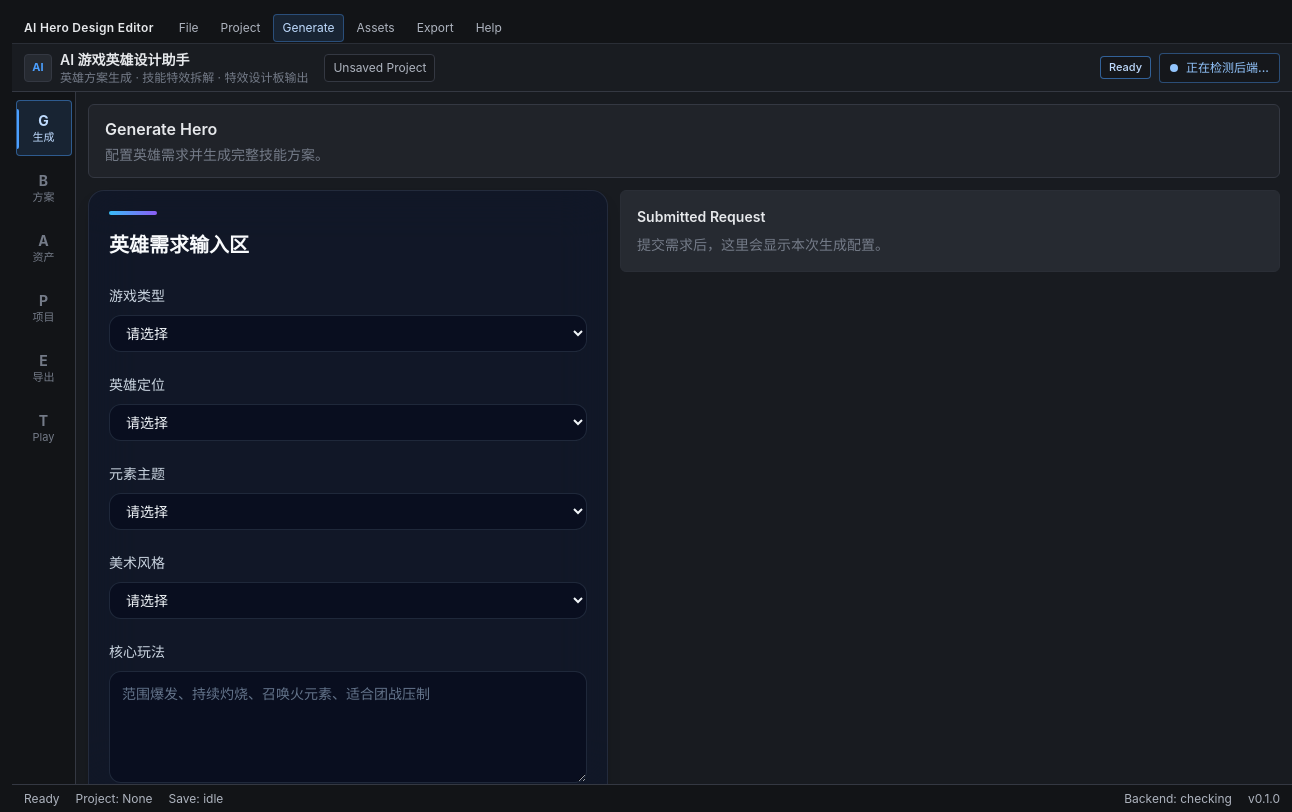
it: runtime vfx project integration › restores runtime_vfx_asset_spec from history project
What coordinates should you click on to do the following:
click the button with aria-label "Projects"
I would click on:
 (44, 308)
Its box is [16,280,72,336].
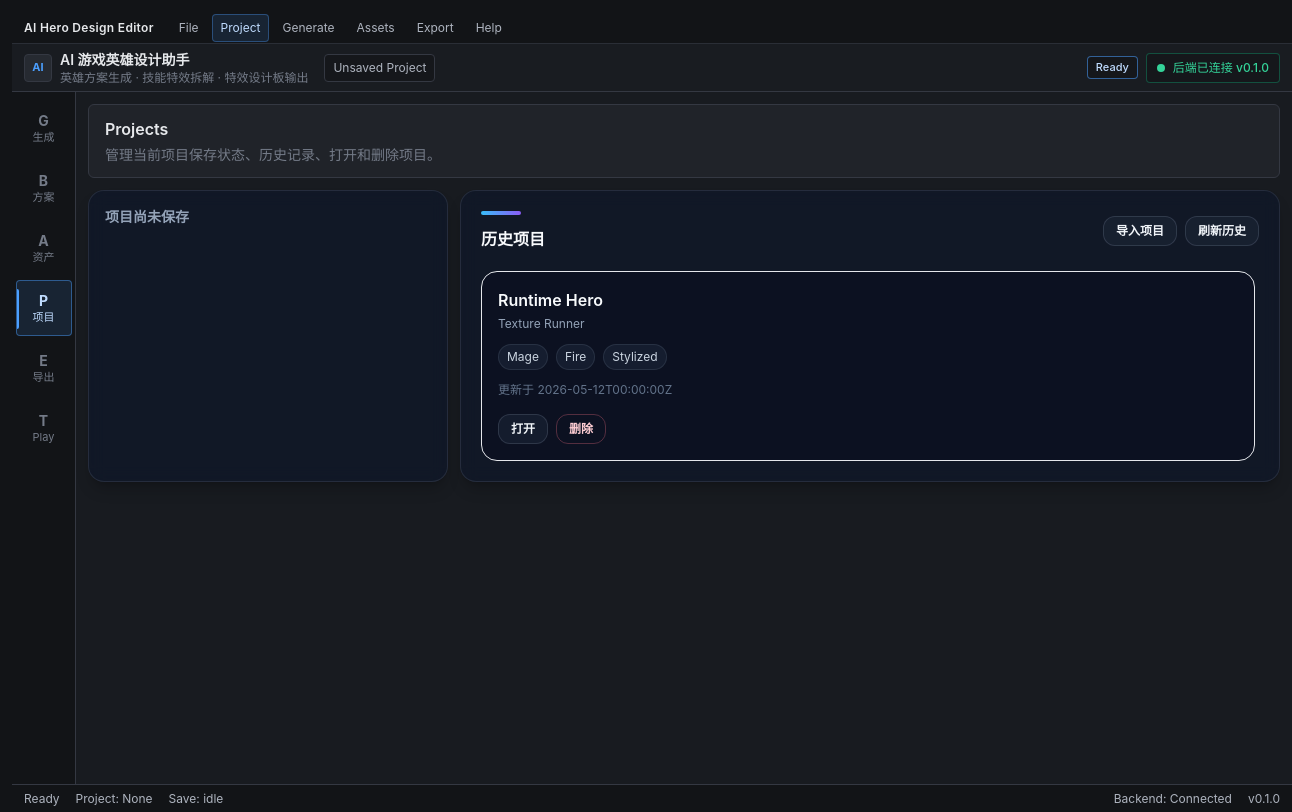
Check: the heading "Runtime Hero" is shown, box [498,288,603,312]
What coordinates should you click on to do the following:
click the button "打开"
I would click on:
 (523, 429)
Its box is [498,414,548,444].
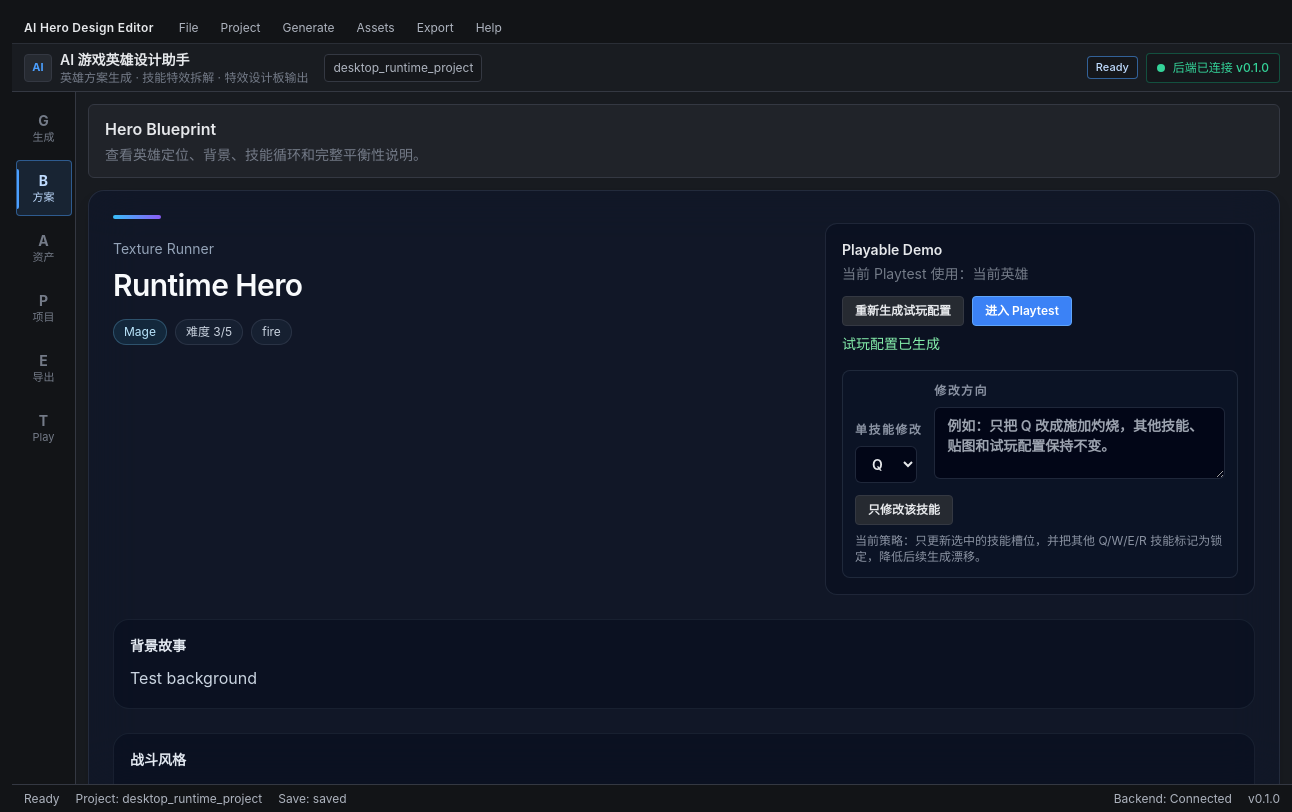
What coordinates should you click on to do the following:
click the button with aria-label "Assets"
I would click on:
 (44, 248)
Its box is [16,220,72,276].
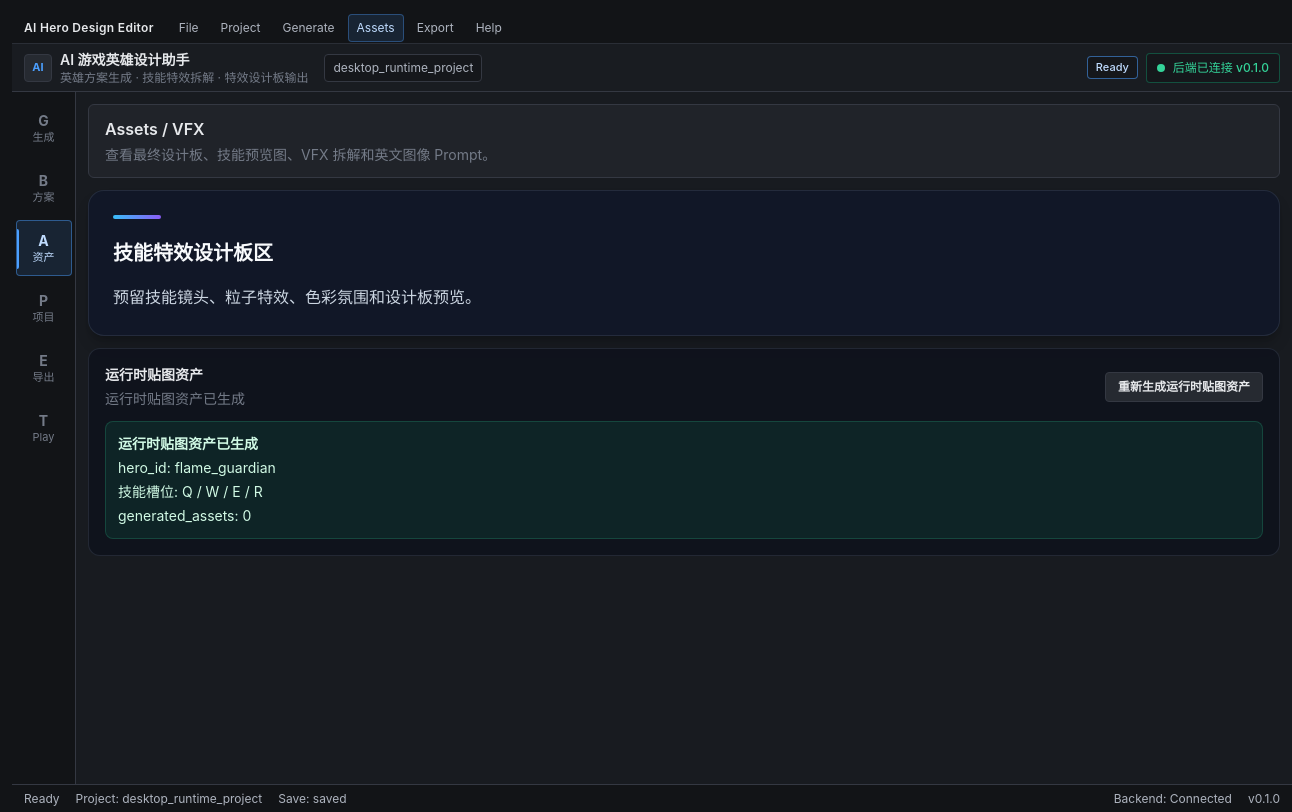
Check: the text "hero_id: flame_guardian" is shown, box [118,459,276,476]
